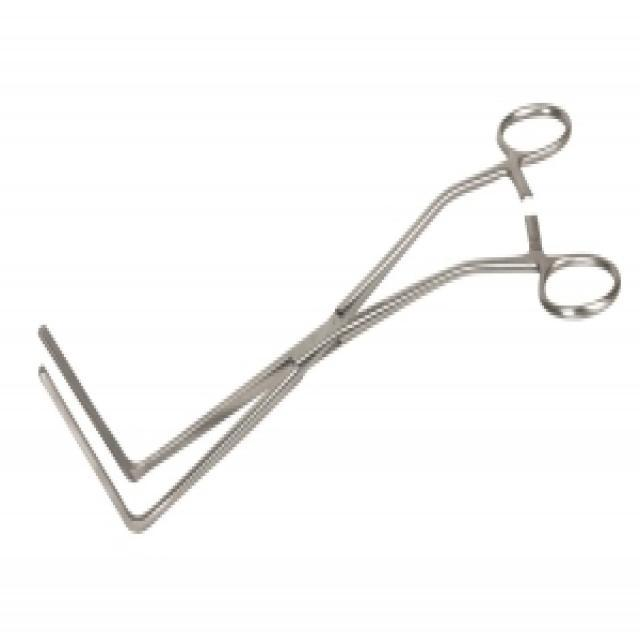Right Angle Colon Clamp: (24, 84, 625, 542)
